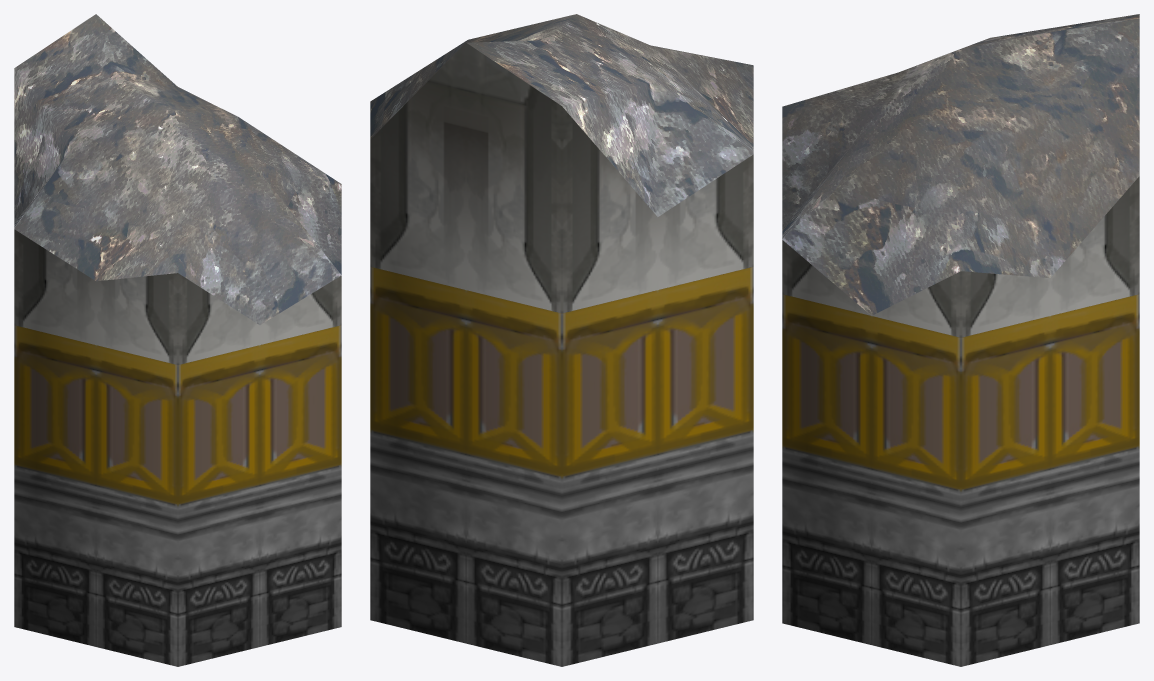
Rendered from Posun_Chengmen_03.FBX.
3 views of the same model, side by side, from view 1: azimuth 30°, elevation 25°; view 2: azimuth 150°, elevation 25°; view 3: azimuth 270°, elevation 25° (orthographic). The views are drawn at different scales.
Visible parts, largest first — view 1: Posun_Chengmen_03; view 2: Posun_Chengmen_03; view 3: Posun_Chengmen_03.
Part boxes in pixels (bbox=[...]): Posun_Chengmen_03: bbox=[14, 14, 341, 666]; Posun_Chengmen_03: bbox=[370, 14, 753, 666]; Posun_Chengmen_03: bbox=[782, 14, 1139, 666].
Size of the model in its own units: 192 by 287 by 166.
